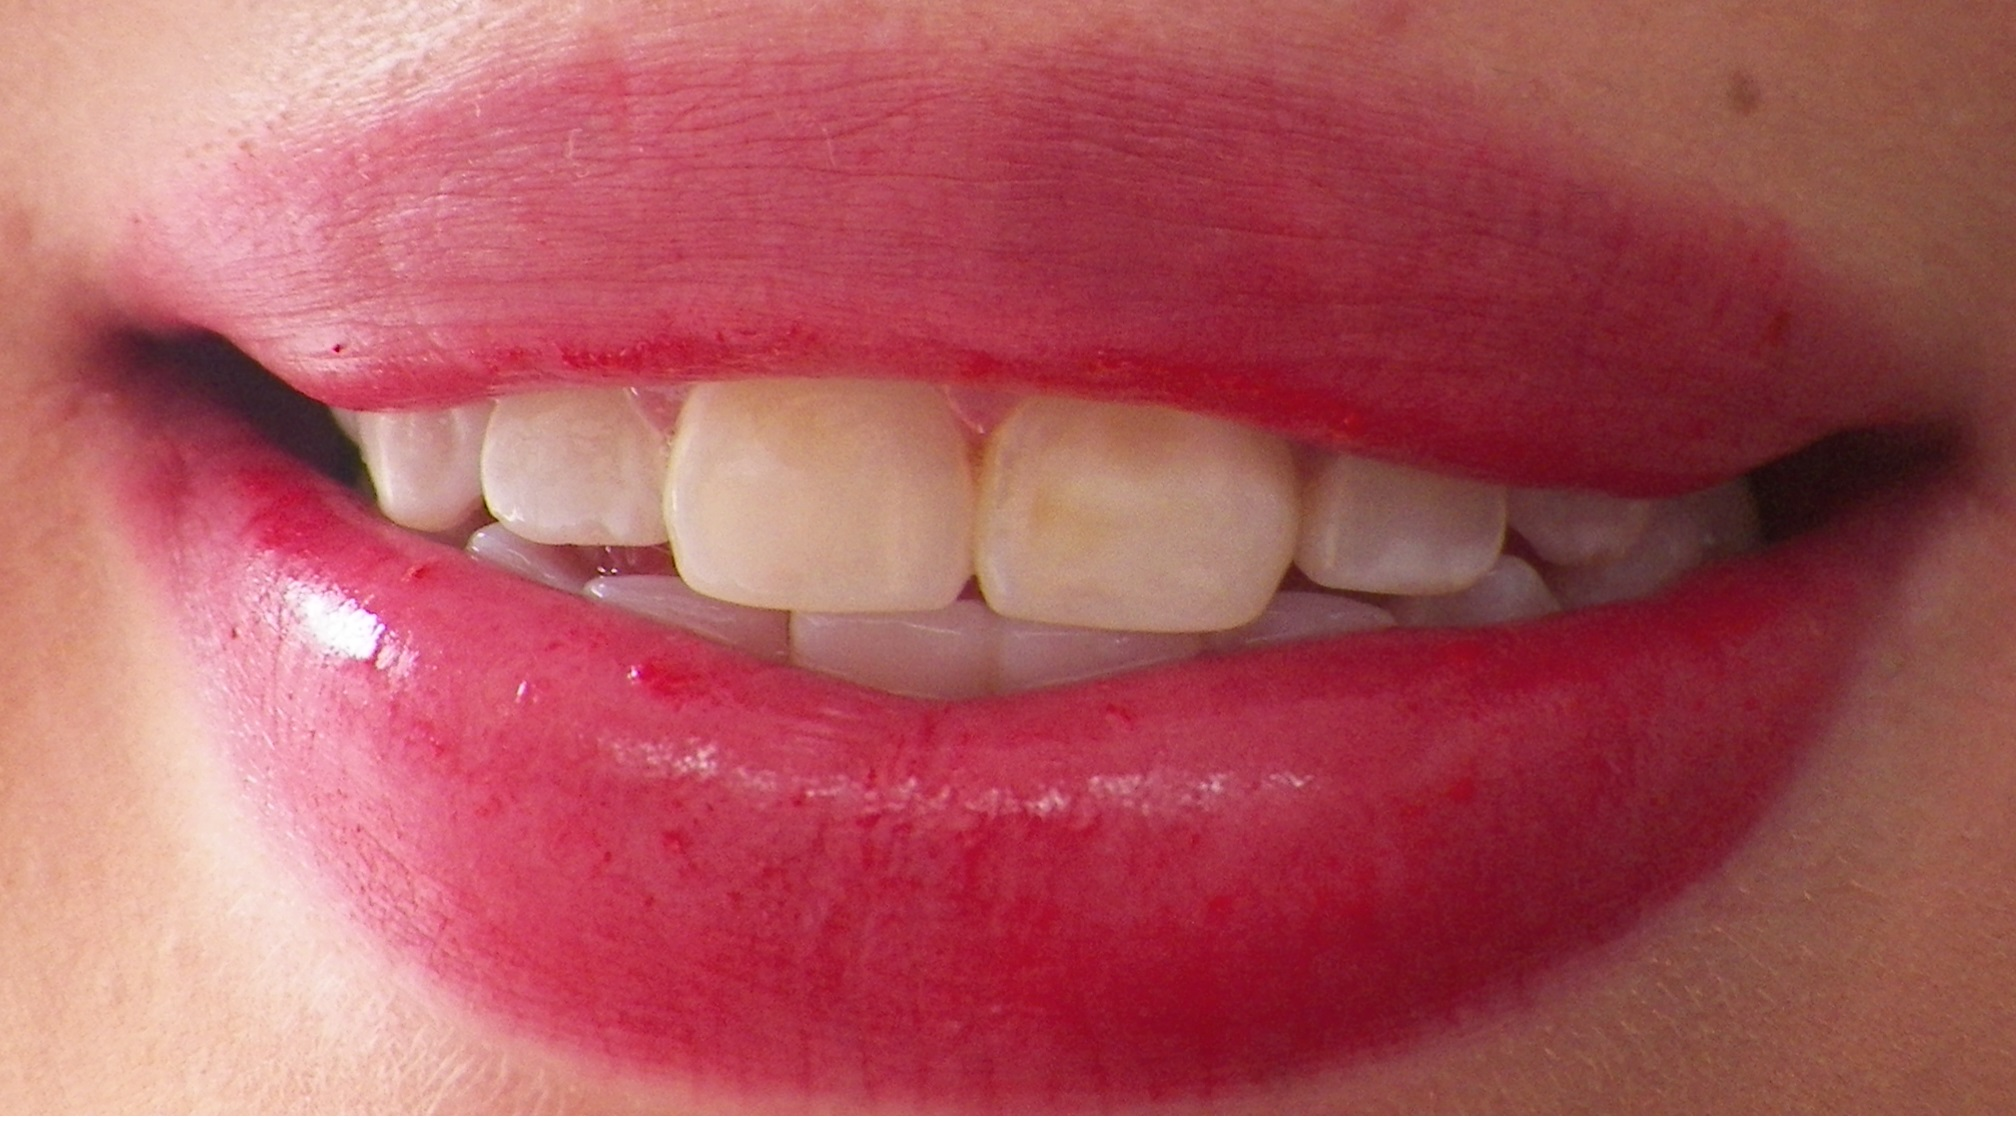boca: (329, 401, 1741, 698)
